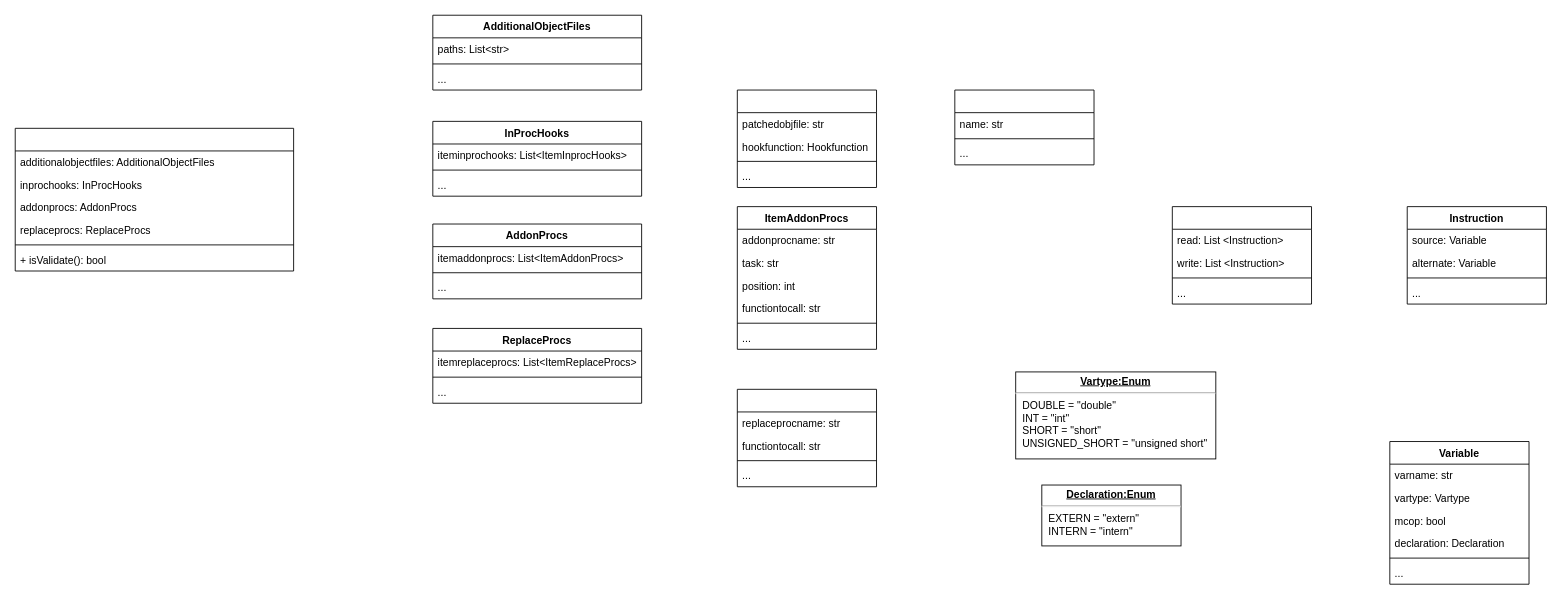
Image size: 1562x602. Some labels were removed from this diagram. The box of each missing label's shape, as (x1, y1, x2, y2) in pixels:
AddonConfig: (14, 127, 294, 271)
Hookfunction: (954, 89, 1094, 165)
ItemInProcHooks: (736, 89, 877, 187)
ItemReplaceProcs: (736, 388, 877, 487)
Subdeclaration: (1171, 206, 1312, 304)
